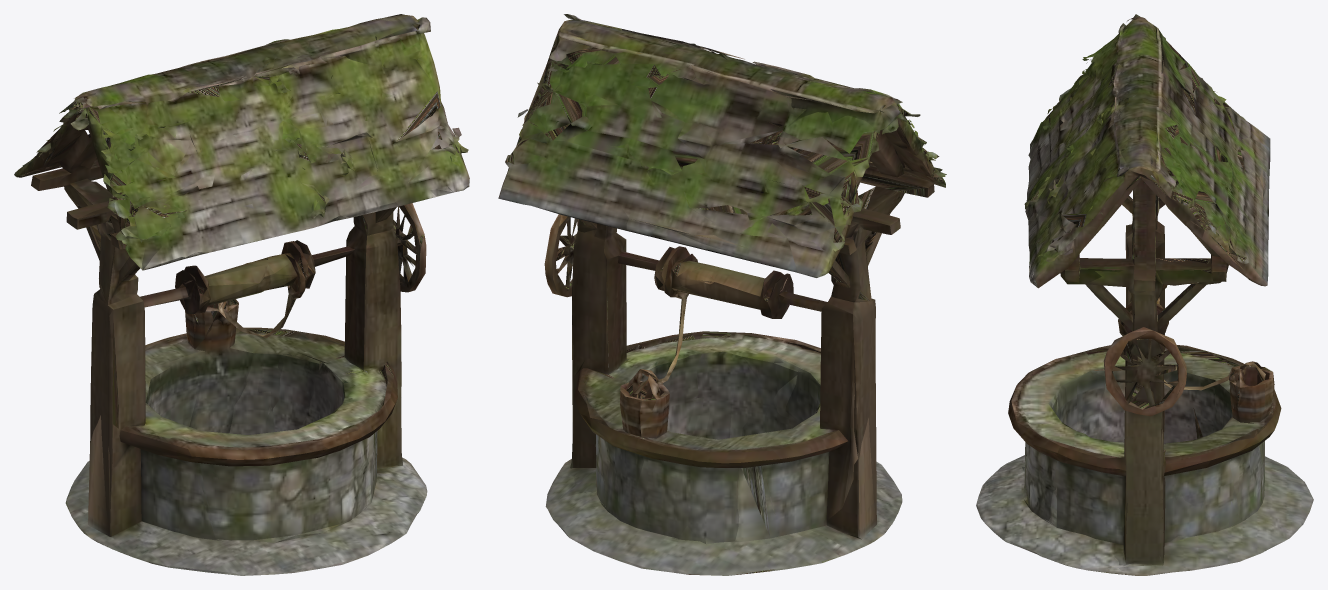
File: dc_well.glb
3 views of the same model, side by side, from view 1: azimuth 30°, elevation 25°; view 2: azimuth 150°, elevation 25°; view 3: azimuth 270°, elevation 25° (orthographic). The views are drawn at different scales.
Visible parts, largest first — view 1: turn, mesh_lod; view 2: turn, mesh_lod; view 3: turn, mesh_lod.
Part boxes in pixels (x1,y1,x2,y2): turn: [14, 14, 469, 575]; mesh_lod: [17, 15, 469, 571]; turn: [498, 14, 946, 575]; mesh_lod: [501, 15, 945, 575]; turn: [976, 14, 1313, 575]; mesh_lod: [977, 17, 1311, 575].
Bounding box in the file's own units: 1.86 × 2.2 × 1.63.
1 material, 1 textured.
